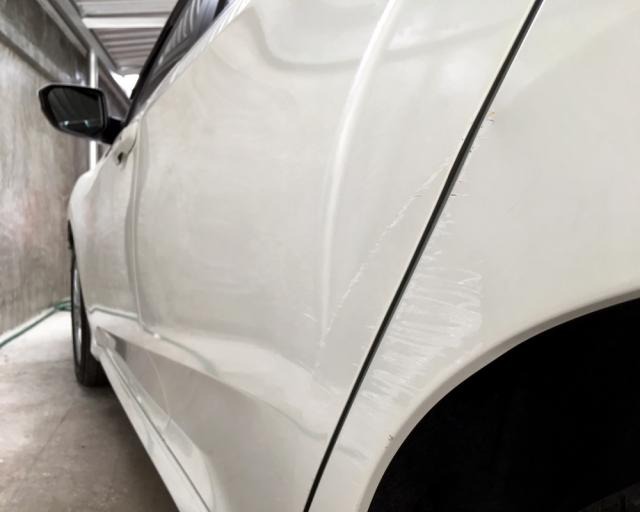scratch: (355, 184, 485, 415), (313, 154, 453, 359)
